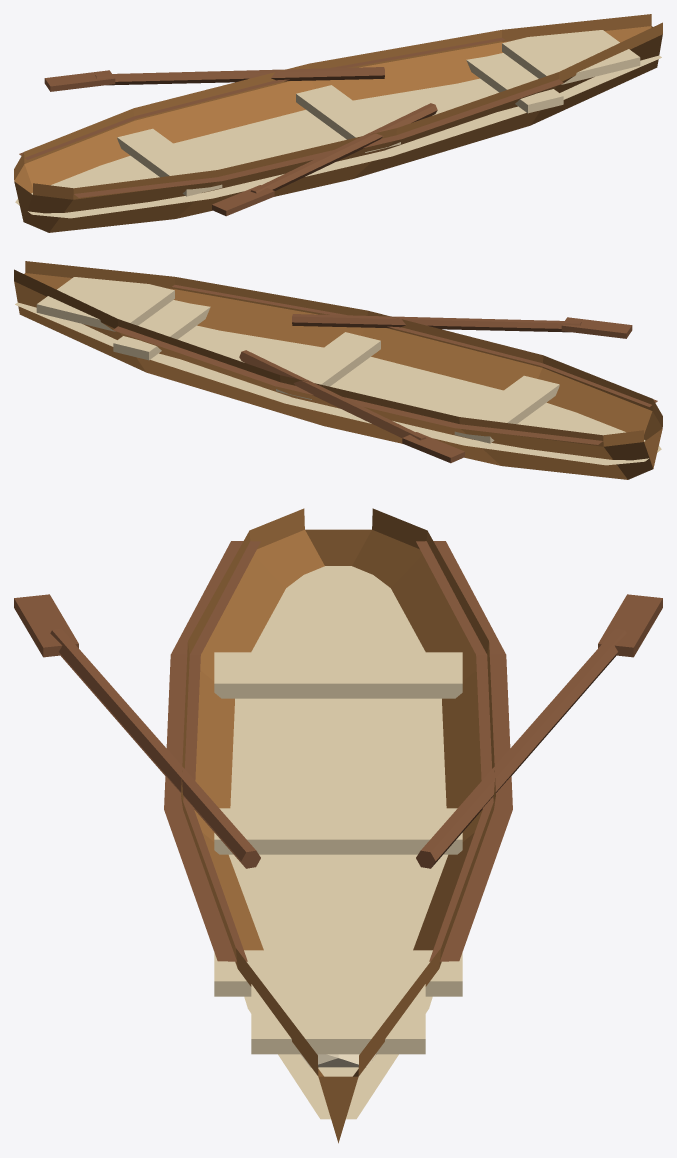
File: bay-rowboat.glb
3 views of the same model, one above another, from view 1: azimuth 30°, elevation 25°; view 2: azimuth 150°, elevation 25°; view 3: azimuth 270°, elevation 25° (orthographic). The views are drawn at different scales.
Parts seen in each view (by area): view 1: GEO-row_hull, GEO-row_hull_deck, GEO-row_hull_rail, GEO-row_foredeck, GEO-row_oar_1, GEO-row_seat_1, GEO-row_seat_0, GEO-row_gunnel_-1, GEO-row_seat_2, GEO-row_oar_-1, GEO-row_gunnel_1, GEO-row_blade_1 (+1 smaller); view 2: GEO-row_hull, GEO-row_hull_deck, GEO-row_hull_rail, GEO-row_foredeck, GEO-row_oar_-1, GEO-row_seat_1, GEO-row_seat_0, GEO-row_gunnel_1, GEO-row_seat_2, GEO-row_oar_1, GEO-row_gunnel_-1, GEO-row_blade_-1 (+1 smaller); view 3: GEO-row_hull_deck, GEO-row_hull, GEO-row_foredeck, GEO-row_seat_0, GEO-row_gunnel_-1, GEO-row_gunnel_1, GEO-row_seat_1, GEO-row_hull_rail, GEO-row_oar_-1, GEO-row_oar_1, GEO-row_seat_2, GEO-row_blade_-1 (+1 smaller).
Boxes of the visible parts, box(x1,y1,x2,y2) form: GEO-row_hull: box(14, 26, 662, 232); GEO-row_hull_deck: box(15, 55, 661, 218); GEO-row_hull_rail: box(14, 14, 662, 199); GEO-row_foredeck: box(502, 30, 640, 84); GEO-row_oar_1: box(95, 67, 384, 85); GEO-row_seat_1: box(296, 85, 400, 152); GEO-row_seat_0: box(117, 128, 222, 196); GEO-row_gunnel_-1: box(74, 79, 563, 197); GEO-row_seat_2: box(466, 53, 563, 113); GEO-row_oar_-1: box(250, 103, 437, 193); GEO-row_gunnel_1: box(19, 38, 504, 159); GEO-row_blade_1: box(44, 70, 115, 91); GEO-row_hull: box(14, 273, 662, 479); GEO-row_hull_deck: box(15, 302, 661, 465); GEO-row_hull_rail: box(14, 261, 662, 446); GEO-row_foredeck: box(36, 277, 174, 331); GEO-row_oar_-1: box(292, 314, 581, 332); GEO-row_seat_1: box(276, 332, 380, 399); GEO-row_seat_0: box(454, 375, 559, 443); GEO-row_gunnel_1: box(113, 326, 602, 444); GEO-row_seat_2: box(113, 300, 210, 360); GEO-row_oar_1: box(239, 350, 426, 440); GEO-row_gunnel_-1: box(172, 285, 657, 406); GEO-row_blade_-1: box(561, 317, 632, 338); GEO-row_hull_deck: box(229, 566, 447, 1119); GEO-row_hull: box(194, 529, 482, 1143); GEO-row_foredeck: box(251, 961, 425, 1054); GEO-row_seat_0: box(214, 652, 462, 698); GEO-row_gunnel_-1: box(164, 541, 260, 961); GEO-row_gunnel_1: box(416, 541, 512, 961); GEO-row_seat_1: box(214, 808, 462, 854); GEO-row_hull_rail: box(181, 508, 495, 1075); GEO-row_oar_-1: box(50, 628, 260, 868); GEO-row_oar_1: box(416, 628, 626, 868); GEO-row_seat_2: box(214, 950, 462, 996); GEO-row_blade_-1: box(14, 594, 78, 657).
Bounding box in the file's own units: 3.9 × 0.526 × 1.93.
